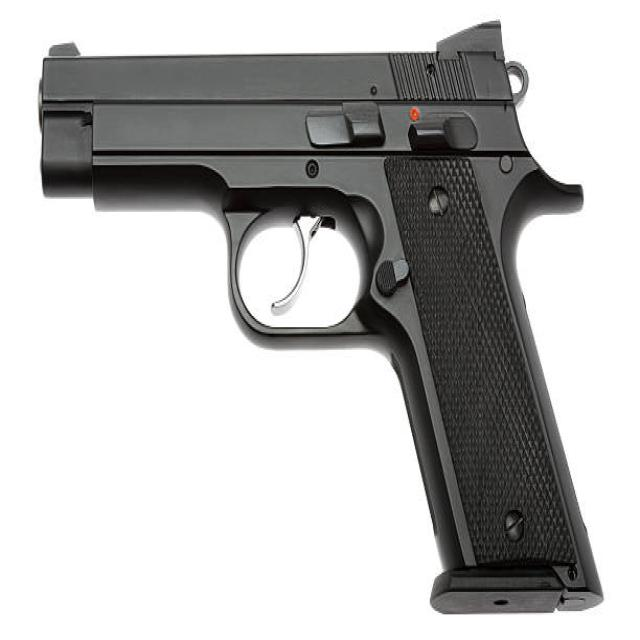pistol: (33, 13, 608, 620)
